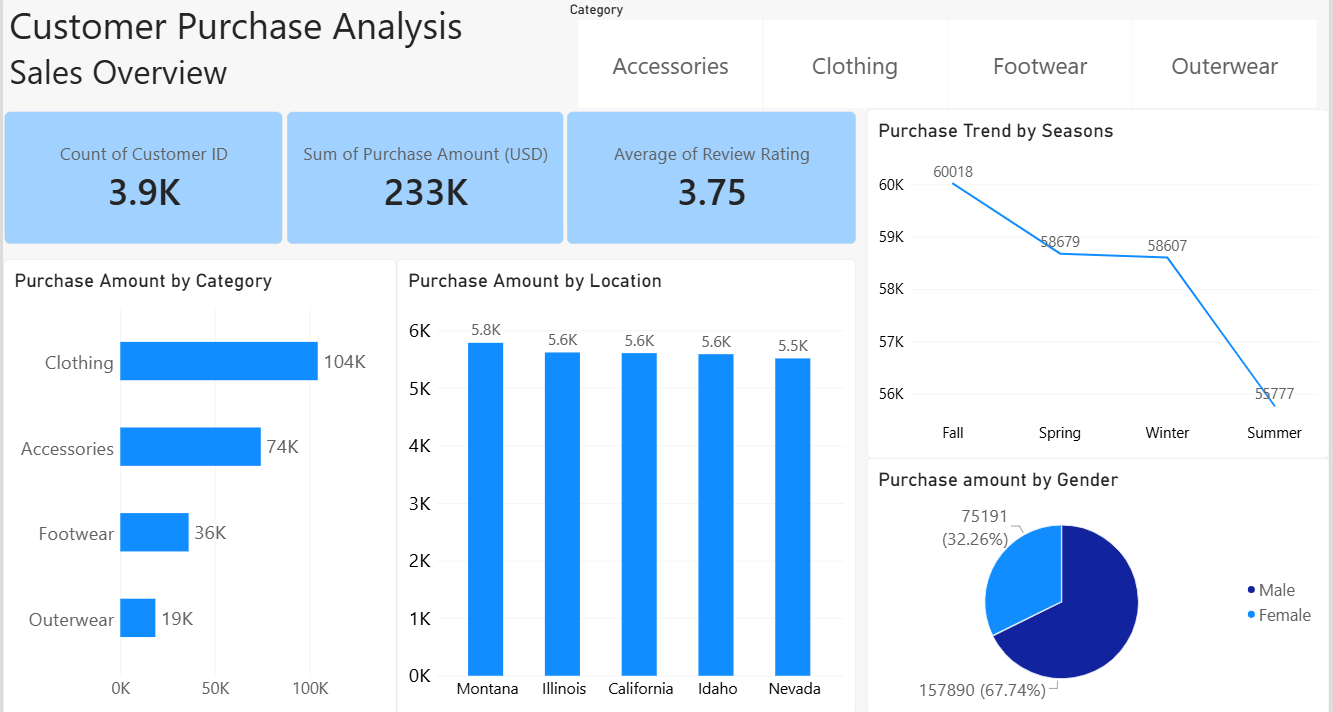

The dashboard page shown, as its layout file describes it:
{"tool":"powerbi","page":{"name":"Page 1","canvas":[1920,1080],"ordinal":0},"visuals":[{"type":"slicer","fields":{"Values":["customer_history_cleaned.Category"]},"box":[812.2,6.5,1108.1,159.8],"z":0},{"type":"barChart","title":"Purchase Amount by Category","fields":{"Category":["customer_history_cleaned.Category"],"Y":["Sum(customer_history_cleaned.Purchase Amount (USD))"]},"box":[0,383,569.4,660.2],"z":1000},{"type":"pieChart","title":"Purchase amount by Gender","fields":{"Category":["customer_history_cleaned.Gender"],"Y":["Sum(customer_history_cleaned.Purchase Amount (USD))"]},"box":[1250.6,671.8,669.6,371.5],"z":2000},{"type":"lineChart","title":"Purchase Trend by Seasons","fields":{"Category":["customer_history_cleaned.Season"],"Y":["Sum(customer_history_cleaned.Purchase Amount (USD))"]},"box":[1250.6,166.3,669.6,505.4],"z":3000},{"type":"columnChart","title":"Purchase Amount by Location","fields":{"Category":["customer_history_cleaned.Location"],"Y":["Sum(customer_history_cleaned.Purchase Amount (USD))"]},"box":[569.4,383,665.2,660.2],"z":4000},{"type":"cardVisual","fields":{"Data":["Sum(customer_history_cleaned.Purchase Amount (USD))"]},"box":[410.4,170.6,401.8,192.2],"z":5000},{"type":"textbox","box":[8.6,6.5,708.5,166.3],"z":6000},{"type":"cardVisual","fields":{"Data":["CountNonNull(customer_history_cleaned.Customer ID)"]},"box":[2.2,170.6,403.9,192.2],"z":7000},{"type":"cardVisual","fields":{"Data":["Avg(customer_history_cleaned.Review Rating)"]},"box":[816.5,170.6,419,192.2],"z":8000}]}

Visuals, with their boxes on the page's 1920x1080 design canvas (x1, y1, x2, y2). These are canvas units, not pixel positions in the 1333x712 screenshot, which may show the page scaled, cropped or inside an application window:
slicer - customer_history_cleaned.Category: <region>812, 6, 1920, 166</region>
"Purchase Amount by Category" barChart: <region>0, 383, 569, 1043</region>
"Purchase amount by Gender" pieChart: <region>1251, 672, 1920, 1043</region>
"Purchase Trend by Seasons" lineChart: <region>1251, 166, 1920, 672</region>
"Purchase Amount by Location" columnChart: <region>569, 383, 1235, 1043</region>
cardVisual - Sum(customer_history_cleaned.Purchase Amount (USD)): <region>410, 171, 812, 363</region>
textbox: <region>9, 6, 717, 173</region>
cardVisual - CountNonNull(customer_history_cleaned.Customer ID): <region>2, 171, 406, 363</region>
cardVisual - Avg(customer_history_cleaned.Review Rating): <region>816, 171, 1236, 363</region>
